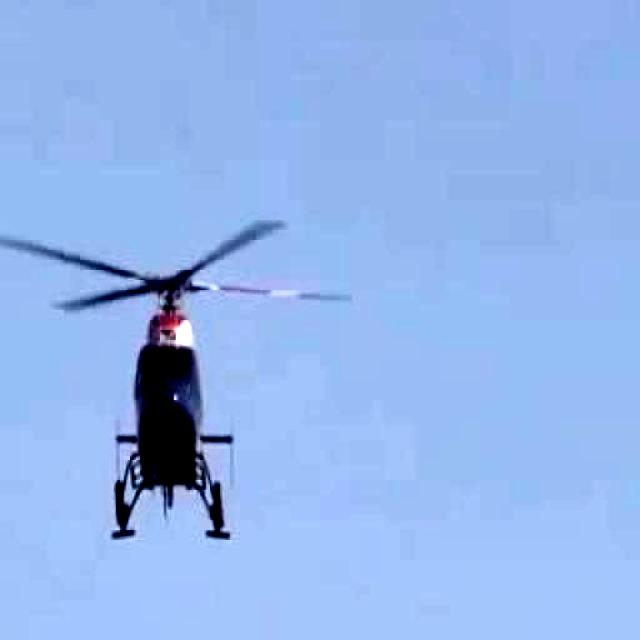drone: (0, 191, 340, 565)
